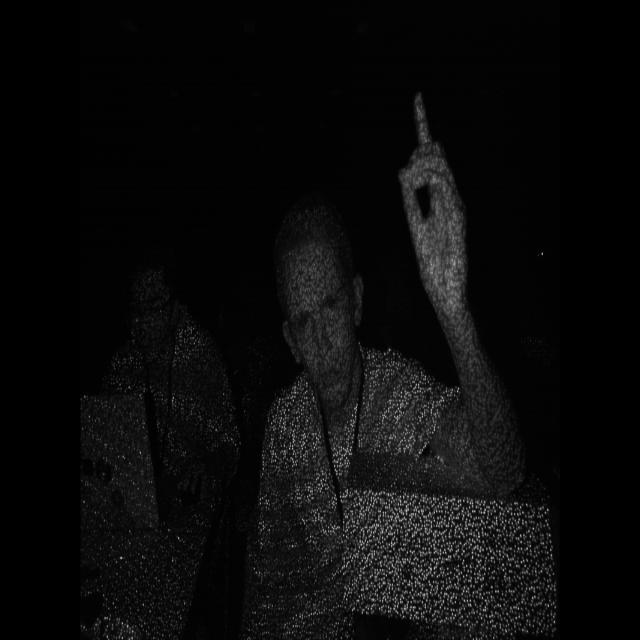D: (387, 74, 495, 353)
